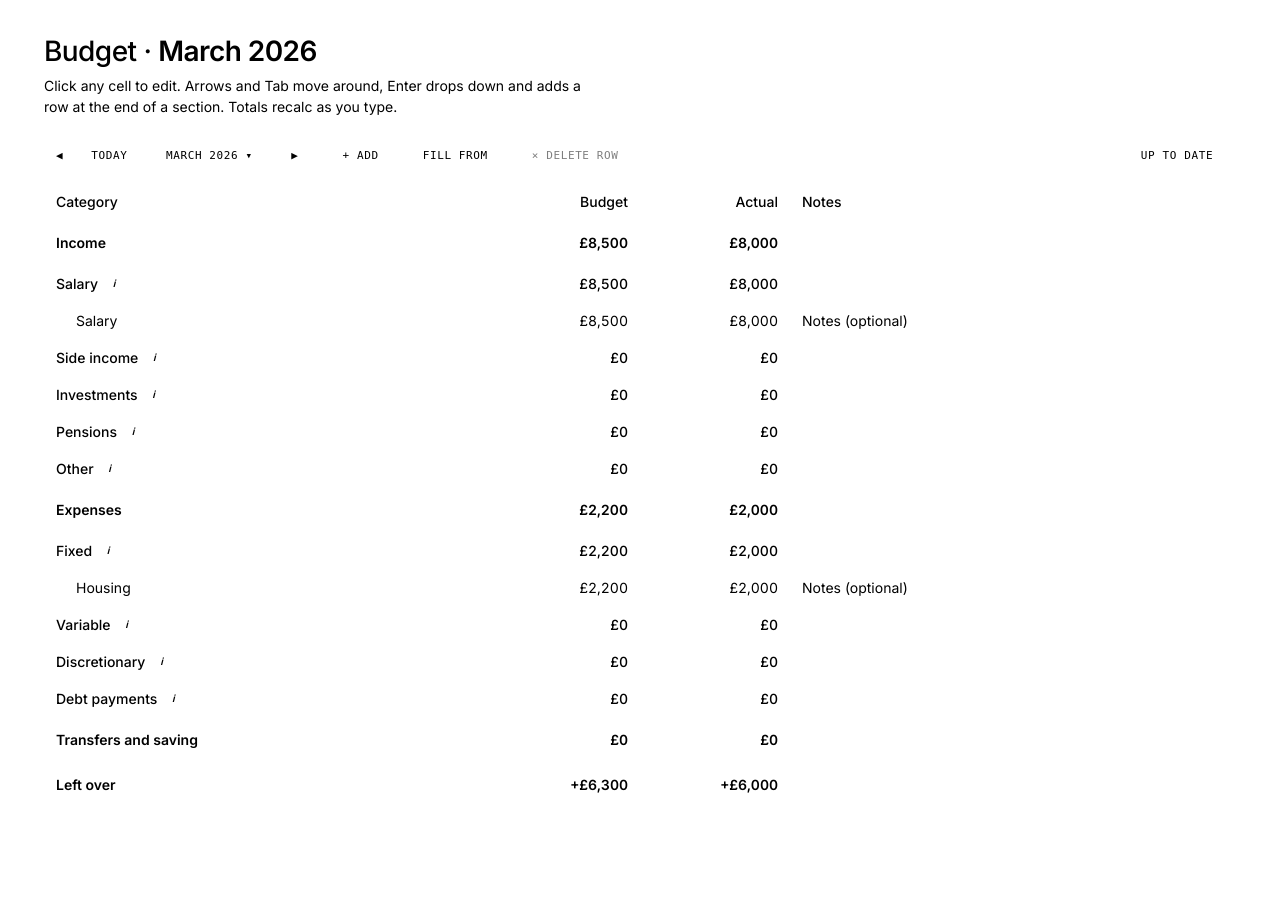
Test: BudgetSheet — the Add drawer's account picker › a repayment may only target a liability account
Click the button "+ Add": (361, 156) left=331, top=141, right=391, bottom=171
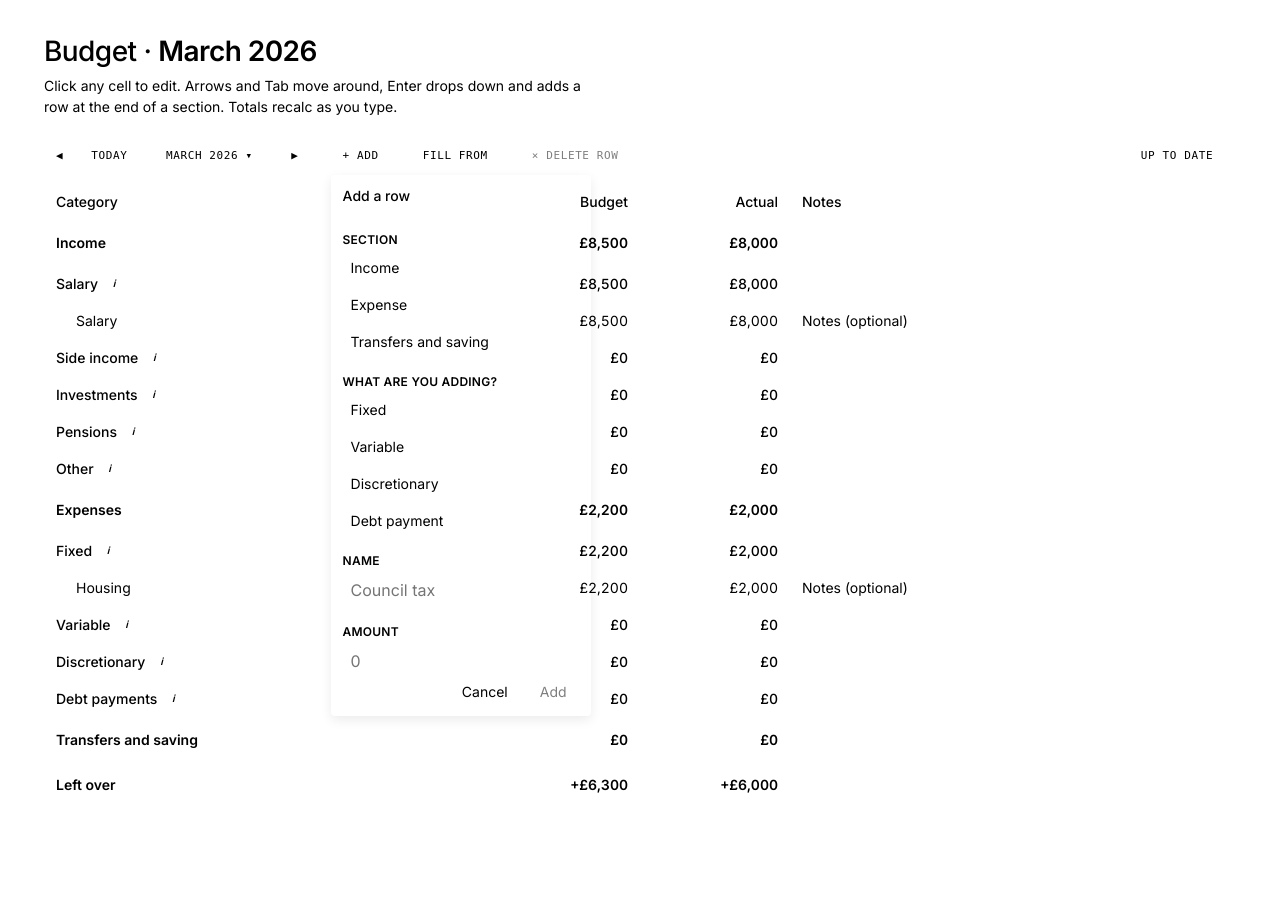
Click the button "Debt payment": (461, 520) left=343, top=504, right=579, bottom=537
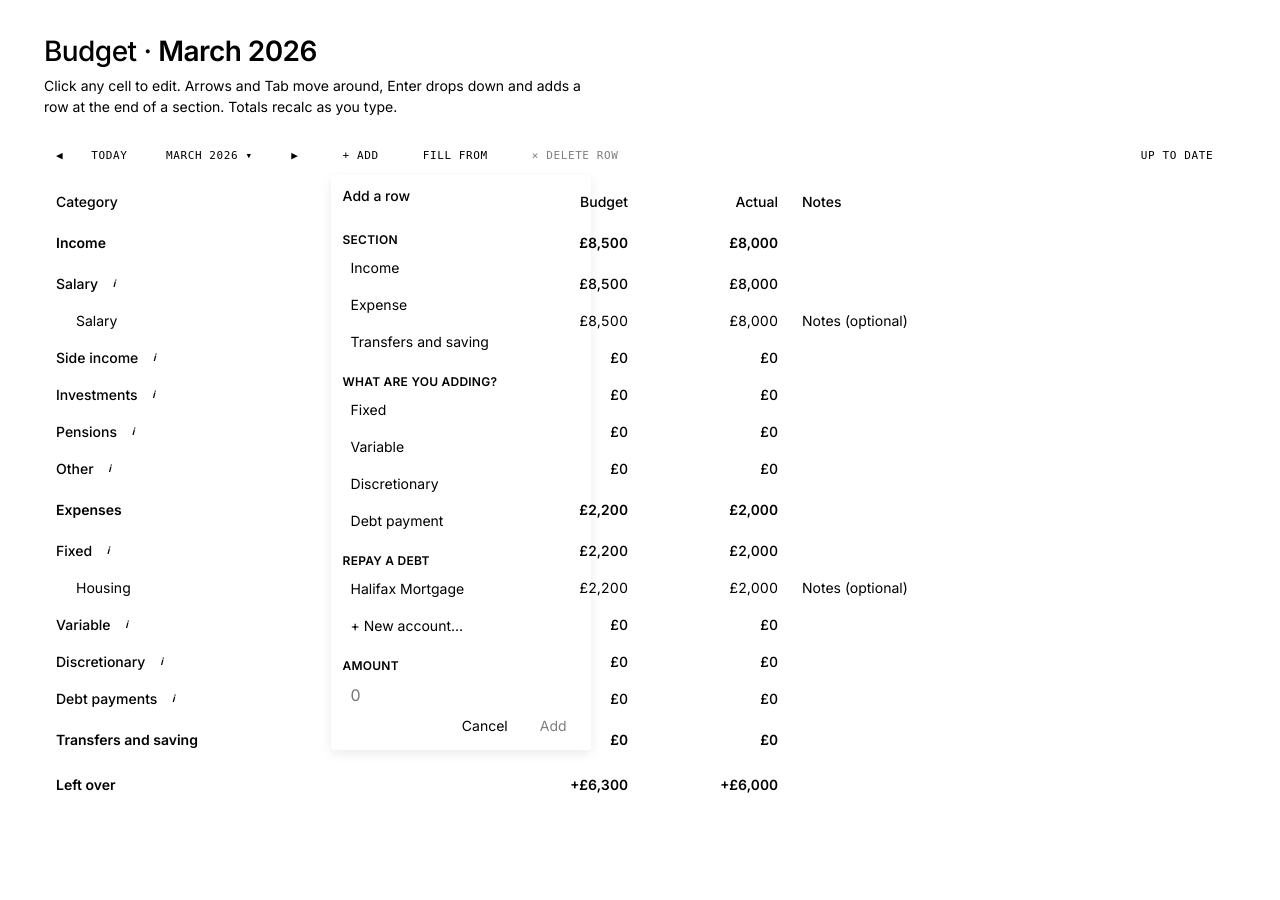
Result: the button "Halifax Mortgage" is shown at left=343, top=572, right=579, bottom=605
